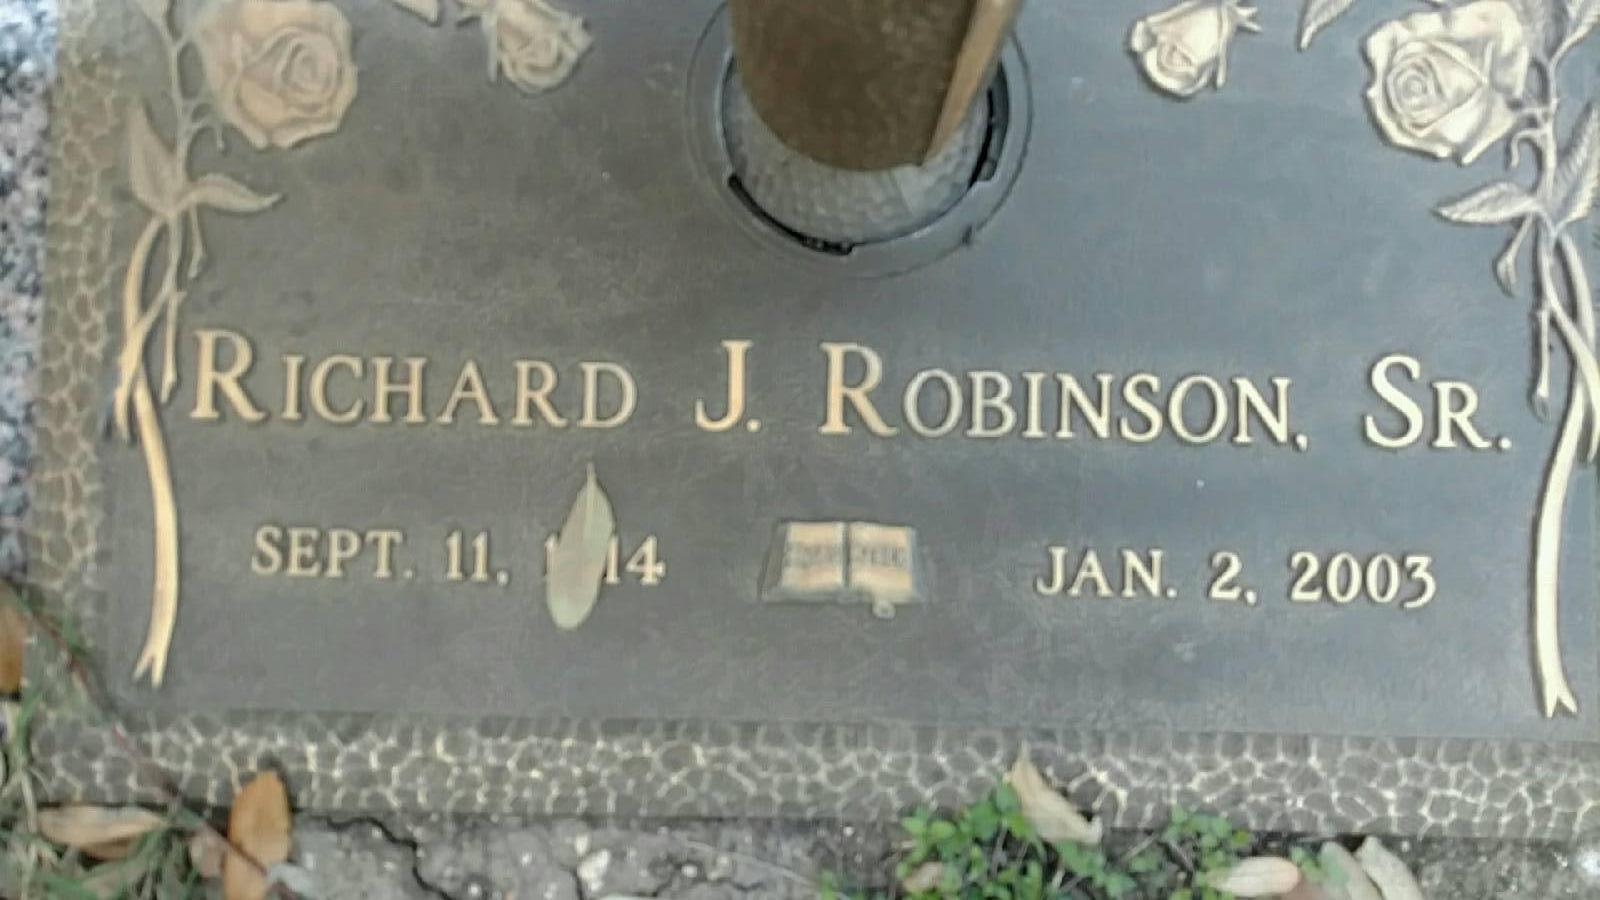flat: (25, 5, 1595, 882)
